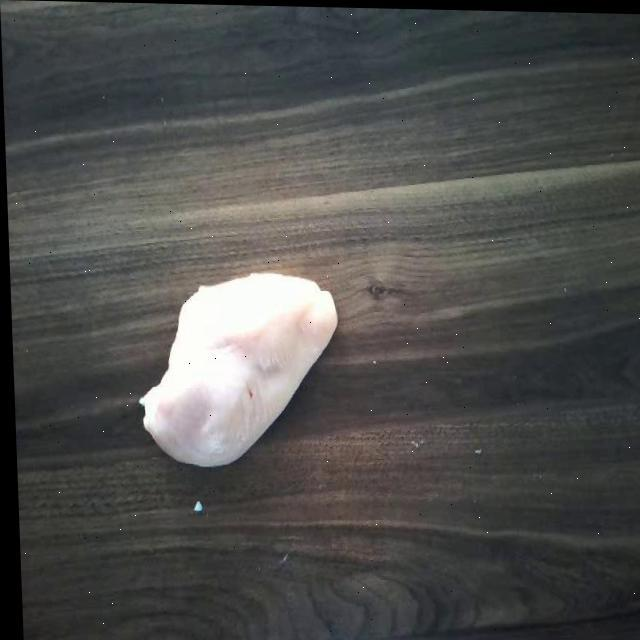breast: (134, 250, 340, 478)
